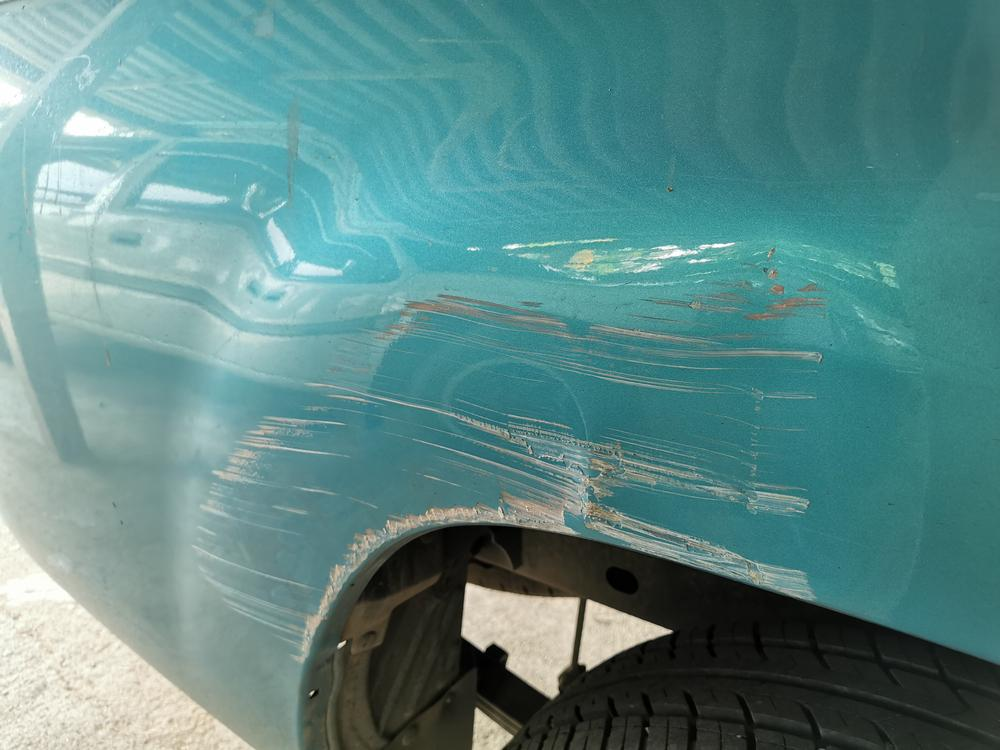scratch: (196, 259, 833, 663)
